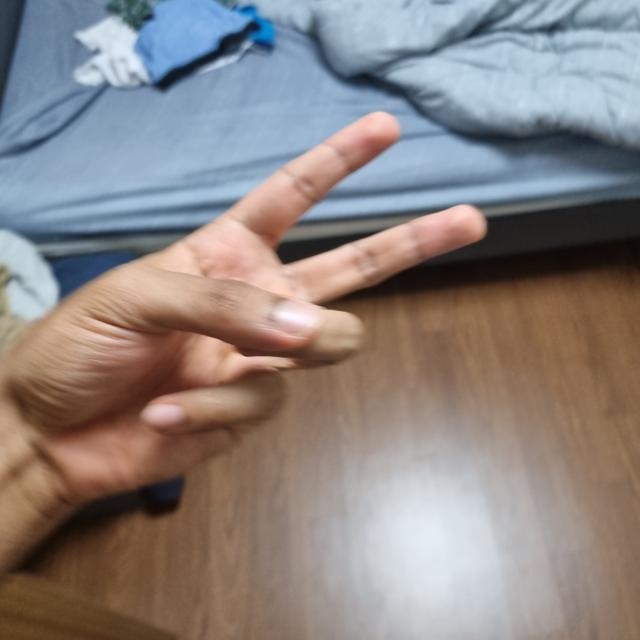Scissors: (2, 117, 481, 496)
